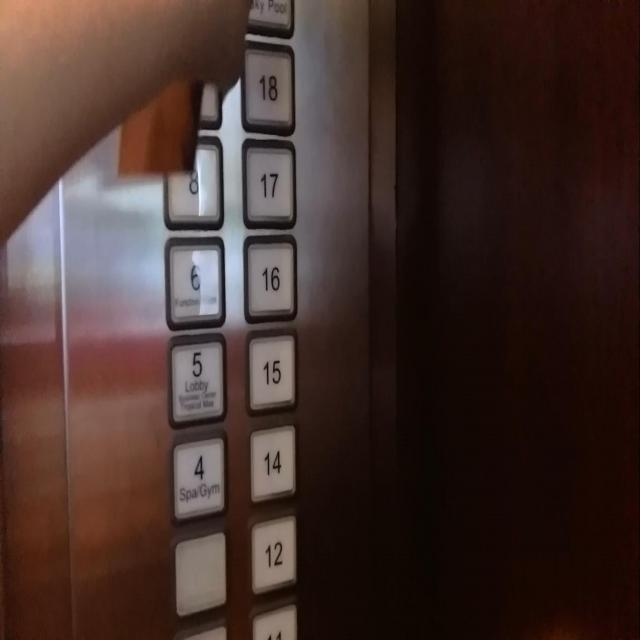12: (250, 514, 298, 594)
14: (249, 422, 296, 503)
15: (244, 327, 298, 418)
16: (242, 232, 297, 324)
17: (241, 136, 296, 230)
18: (240, 37, 295, 135)
4: (168, 429, 228, 523)
5: (166, 332, 228, 429)
6: (164, 236, 226, 331)
8: (162, 135, 224, 231)
empty: (172, 530, 228, 618)
